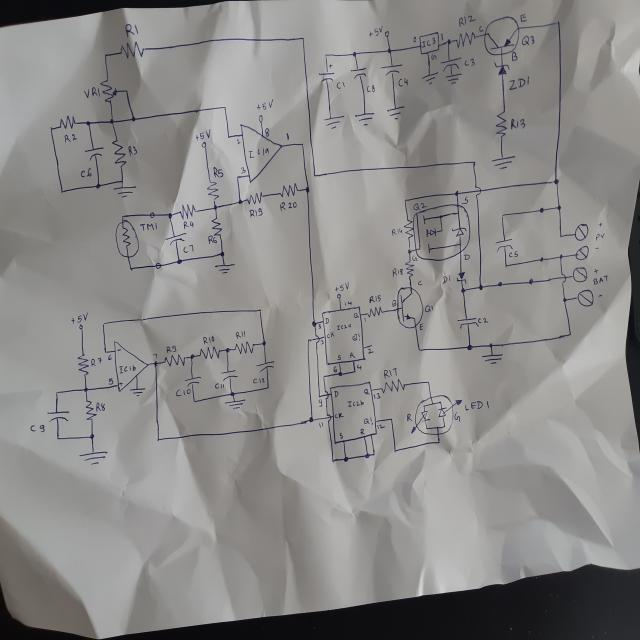capacitor: (318, 62, 334, 84), (440, 56, 462, 72), (46, 409, 71, 423), (84, 146, 104, 162), (457, 316, 479, 330), (496, 237, 514, 254), (165, 232, 186, 246), (380, 63, 402, 76), (255, 360, 275, 373), (350, 66, 368, 80), (220, 368, 238, 381), (184, 375, 203, 387)
crossover: (560, 273, 567, 283), (474, 184, 480, 195), (326, 412, 332, 422), (324, 390, 329, 400), (314, 335, 318, 343)
diode: (411, 396, 463, 435), (493, 62, 510, 77), (456, 270, 467, 284)
ground: (78, 450, 109, 467), (354, 111, 376, 127), (490, 156, 515, 170), (386, 104, 406, 121), (482, 352, 504, 367), (112, 186, 137, 199), (323, 115, 344, 130), (224, 398, 246, 410), (214, 264, 235, 276), (445, 72, 463, 86), (421, 72, 438, 85), (129, 386, 146, 398)
junction: (466, 343, 473, 351), (308, 415, 314, 424), (553, 177, 559, 185), (478, 283, 484, 291), (167, 212, 173, 220), (83, 386, 89, 394), (109, 117, 115, 125), (562, 296, 568, 304), (235, 174, 241, 182), (261, 339, 267, 347), (311, 320, 317, 328), (556, 204, 562, 211), (471, 159, 477, 166), (352, 51, 358, 58), (460, 287, 466, 294), (387, 47, 392, 55), (558, 233, 564, 239), (300, 35, 306, 41), (95, 183, 101, 189), (558, 253, 563, 260), (454, 190, 459, 197), (131, 115, 136, 122), (103, 52, 108, 59), (156, 436, 161, 443), (417, 346, 422, 353), (101, 320, 106, 327), (90, 434, 95, 441), (446, 37, 451, 44), (539, 207, 544, 214), (528, 277, 533, 284), (568, 330, 572, 338), (177, 259, 182, 265), (85, 120, 90, 126), (312, 172, 317, 178), (393, 448, 398, 454), (500, 212, 505, 218), (426, 380, 431, 386), (54, 390, 59, 396), (124, 88, 129, 94), (436, 439, 441, 445), (488, 343, 494, 348), (230, 391, 235, 397), (539, 256, 544, 262), (60, 188, 64, 195), (300, 141, 304, 148), (220, 250, 224, 257), (306, 185, 310, 192), (226, 346, 230, 353), (389, 417, 394, 422), (192, 399, 197, 404), (352, 368, 357, 373), (55, 435, 59, 441), (258, 308, 262, 314), (50, 126, 54, 132), (324, 52, 328, 58), (213, 204, 217, 210), (372, 450, 376, 456), (404, 198, 408, 204), (104, 348, 108, 354), (238, 200, 242, 205), (222, 106, 226, 111), (190, 354, 194, 359), (119, 179, 124, 183), (154, 361, 158, 366), (343, 457, 348, 461), (504, 263, 508, 268), (407, 249, 412, 253), (227, 135, 231, 139), (129, 266, 133, 270), (266, 386, 270, 390), (307, 338, 311, 342), (366, 453, 369, 458), (318, 394, 321, 398), (339, 372, 342, 376), (331, 459, 335, 462), (121, 215, 124, 218), (323, 375, 325, 379)
resistor: (114, 219, 138, 257), (120, 40, 146, 60), (99, 78, 118, 105), (112, 138, 126, 169), (455, 30, 476, 50), (495, 108, 508, 140), (198, 346, 221, 360), (383, 379, 406, 393), (279, 182, 299, 198), (246, 190, 264, 206), (234, 341, 254, 355), (84, 399, 96, 422), (164, 354, 185, 367), (77, 354, 89, 376), (179, 204, 196, 219), (59, 115, 76, 129), (211, 218, 223, 237), (404, 218, 414, 240), (207, 182, 219, 198), (406, 261, 415, 279), (369, 307, 384, 317)
terminal: (577, 288, 594, 309), (573, 266, 588, 284), (574, 223, 588, 241), (576, 245, 589, 262), (384, 29, 390, 38), (258, 114, 264, 122), (78, 324, 83, 331), (336, 293, 341, 299), (156, 262, 160, 269), (202, 142, 206, 148), (150, 212, 154, 218), (370, 344, 372, 346)
text: (508, 76, 531, 91), (465, 400, 489, 412), (124, 21, 140, 38), (248, 148, 270, 160), (458, 13, 476, 27), (82, 85, 100, 99), (279, 200, 299, 212), (510, 117, 527, 130), (71, 312, 89, 324), (383, 366, 398, 380), (248, 207, 264, 220), (334, 280, 351, 292), (140, 221, 158, 232), (118, 363, 136, 374), (521, 34, 536, 47), (257, 100, 273, 112), (368, 26, 384, 38), (212, 166, 225, 179), (422, 35, 436, 47), (593, 275, 608, 286), (62, 134, 78, 144), (195, 130, 211, 140), (30, 423, 46, 433), (175, 387, 191, 397), (346, 399, 366, 407), (90, 357, 103, 368), (390, 226, 404, 236), (392, 266, 403, 278), (206, 234, 218, 245), (369, 294, 382, 304), (182, 244, 195, 254), (475, 316, 488, 326), (202, 335, 215, 345), (336, 323, 352, 331), (235, 328, 246, 339), (80, 168, 92, 178), (128, 145, 138, 157), (182, 221, 195, 230), (252, 377, 266, 385), (442, 274, 452, 285), (366, 83, 376, 94), (95, 402, 105, 413), (412, 202, 425, 210), (398, 78, 408, 88), (363, 416, 373, 426), (464, 58, 475, 67), (424, 304, 433, 314), (376, 422, 385, 432), (508, 250, 518, 259), (214, 382, 225, 390), (166, 345, 177, 353), (352, 331, 360, 342), (511, 49, 518, 61), (336, 81, 345, 90), (519, 13, 528, 22), (334, 412, 344, 420), (462, 195, 470, 205), (317, 398, 324, 408), (107, 376, 114, 386), (240, 165, 247, 175), (430, 53, 438, 61), (326, 331, 334, 339), (595, 233, 604, 240), (373, 391, 380, 400), (324, 316, 330, 326), (360, 427, 366, 437), (106, 353, 113, 361), (285, 132, 291, 141), (265, 128, 270, 138), (454, 411, 459, 421), (464, 253, 470, 261), (418, 323, 424, 331), (391, 299, 397, 307), (344, 300, 352, 306), (332, 365, 338, 373), (353, 312, 359, 320), (349, 351, 355, 359), (336, 353, 342, 361), (333, 390, 339, 398), (338, 431, 344, 439), (478, 24, 484, 32), (407, 413, 412, 422), (356, 364, 362, 371), (318, 421, 324, 428), (598, 221, 604, 228), (597, 293, 603, 300), (317, 322, 322, 330), (236, 138, 241, 146), (412, 255, 417, 263), (364, 387, 369, 395), (116, 346, 121, 354), (417, 280, 423, 286), (367, 348, 373, 354), (593, 268, 599, 274), (440, 32, 444, 41), (118, 381, 124, 387), (153, 352, 158, 359), (363, 316, 367, 323), (413, 35, 417, 42), (498, 281, 502, 288), (320, 339, 324, 345), (595, 245, 599, 251)
transistor: (412, 203, 471, 261), (484, 16, 520, 56), (396, 286, 424, 329)
